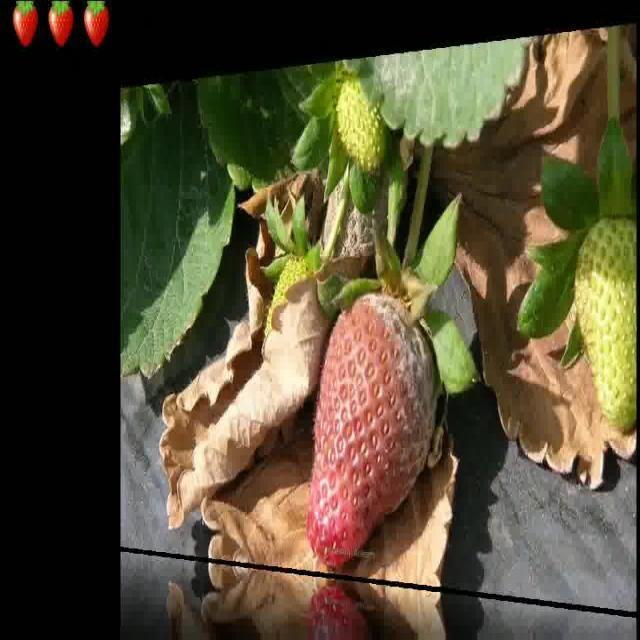Moho gris: (310, 282, 453, 554), (307, 132, 418, 272)
